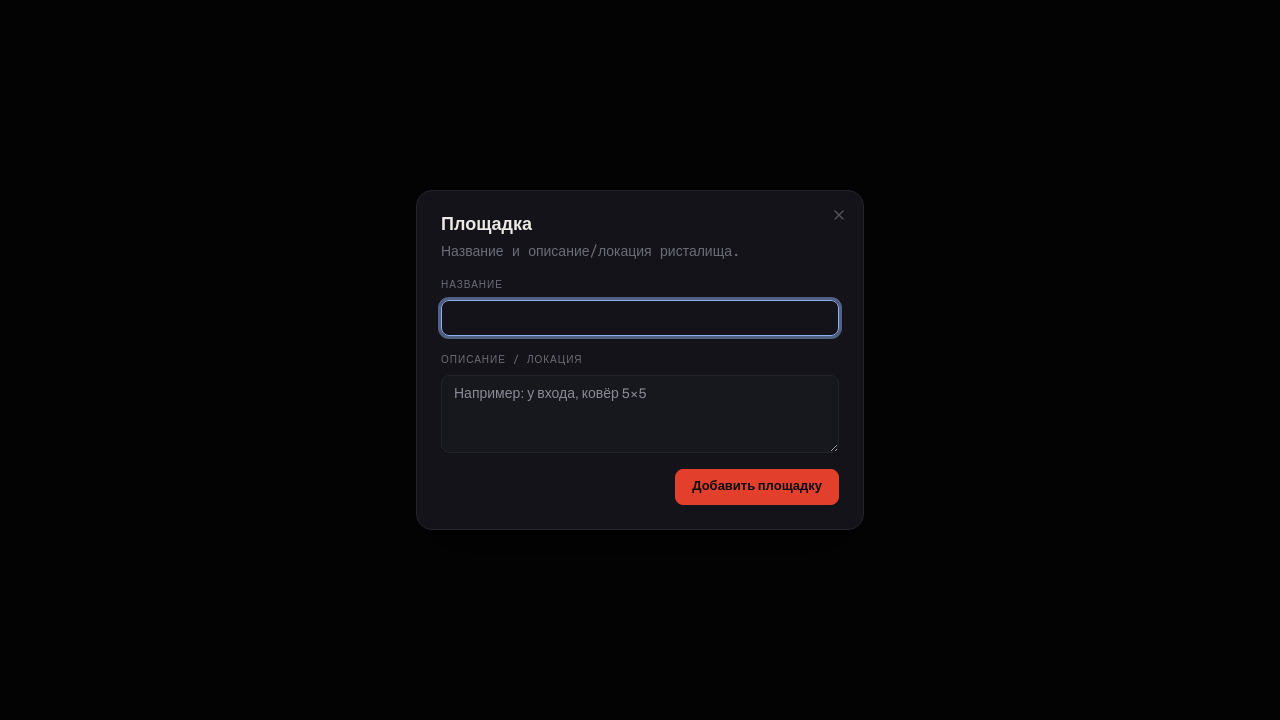
CreateArenaDialog › shows an inline error for an empty name and does not submit or close (AC-6)
The width and height of the screenshot is (1280, 720).
Click the button "Добавить площадку" at [757, 487], box [675,469,839,505]
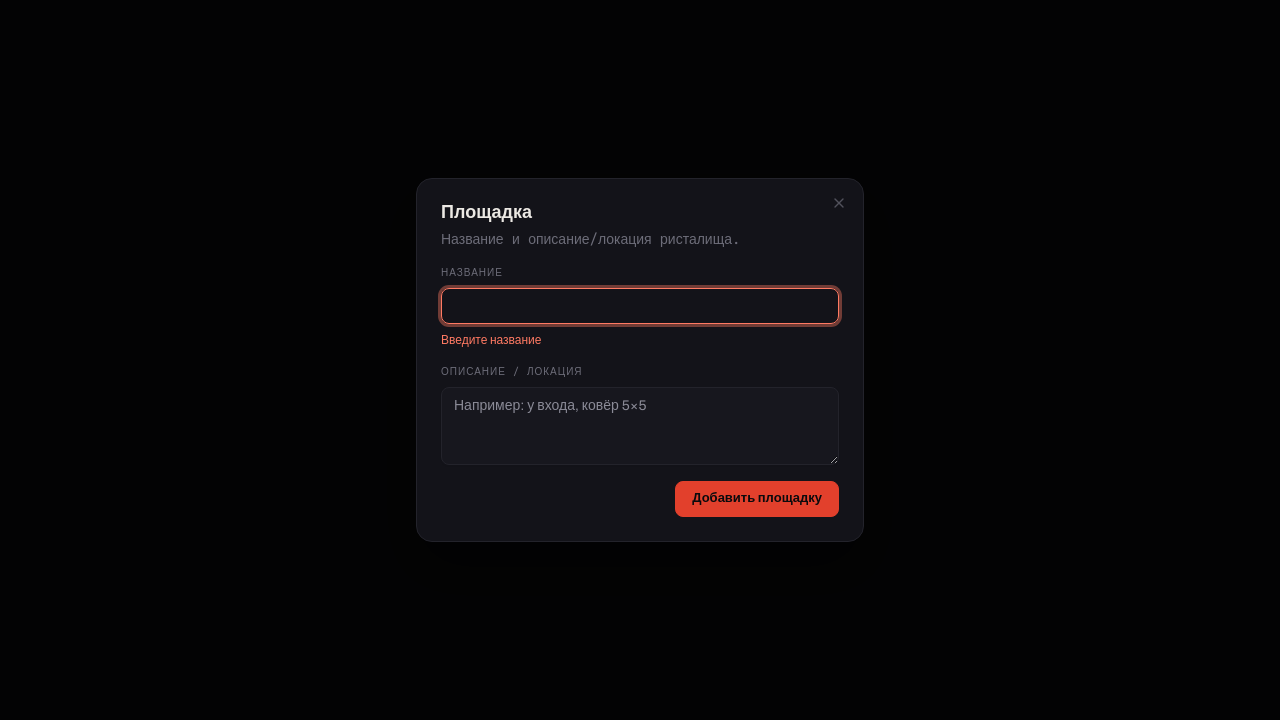
expect the text "Введите название" is shown: met, box [441,333,542,347]
